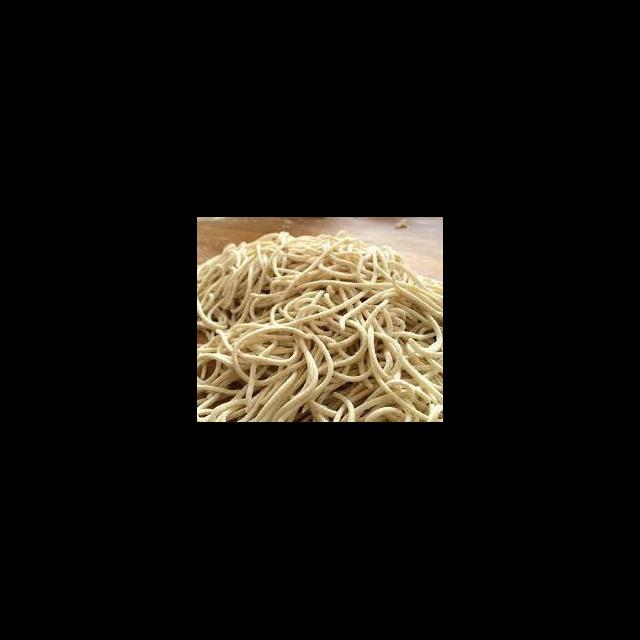noodles: (207, 238, 432, 422)
